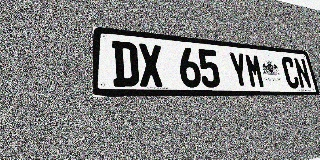5: (198, 49, 221, 88)
6: (177, 47, 202, 87)
C: (280, 56, 300, 88)
D: (112, 41, 139, 87)
M: (244, 53, 266, 88)
N: (293, 58, 312, 89)
X: (138, 43, 164, 87)
Y: (228, 52, 250, 88)
